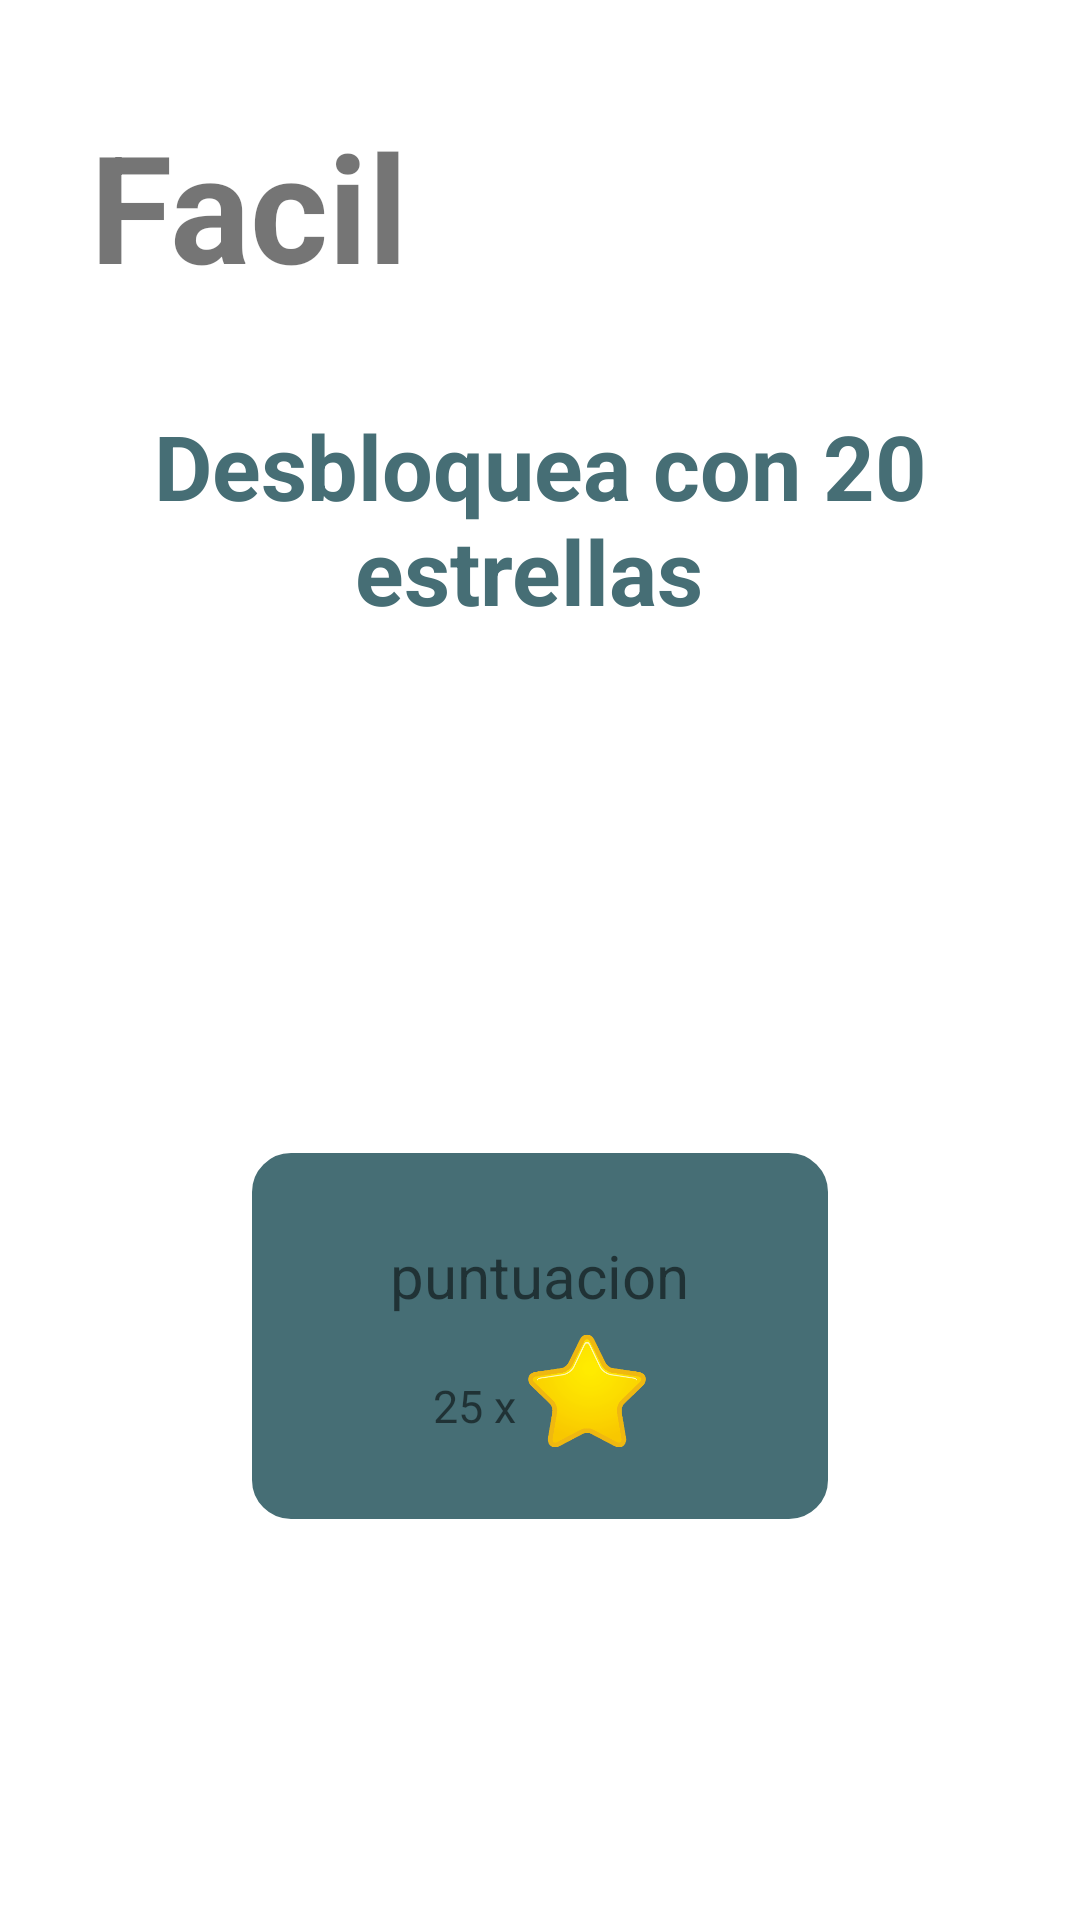

Icon click points for this 1080x1920 phone screenshot, format [x,y]:
star: [587,1391]
